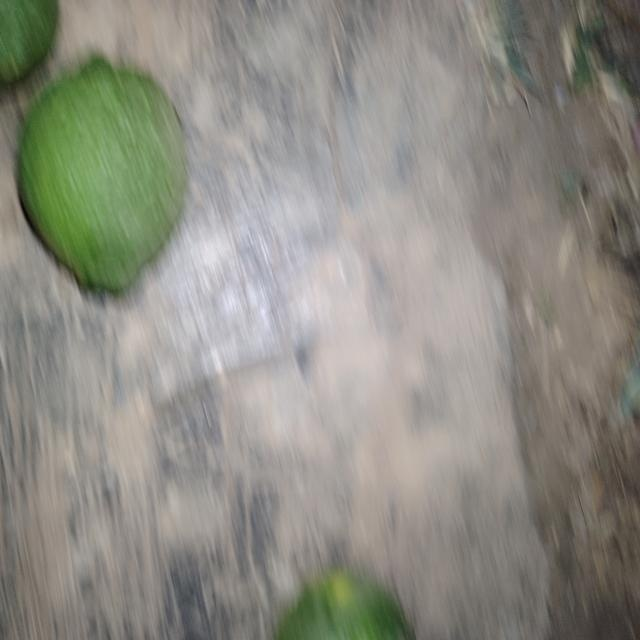agrume: (8, 43, 189, 314)
